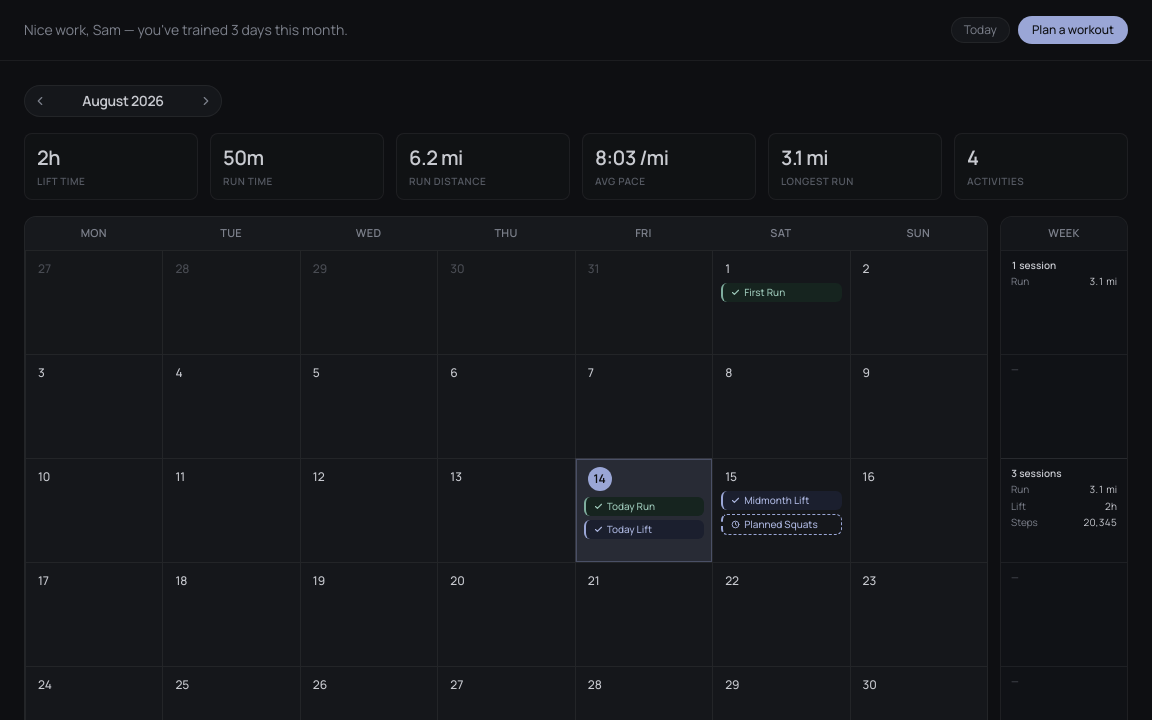
Scenario: CalendarPage › opens the read-only planned modal when a planned grid pill is clicked
Click the button "Planned Squats" at point(781, 524), box [721,514,842,534]
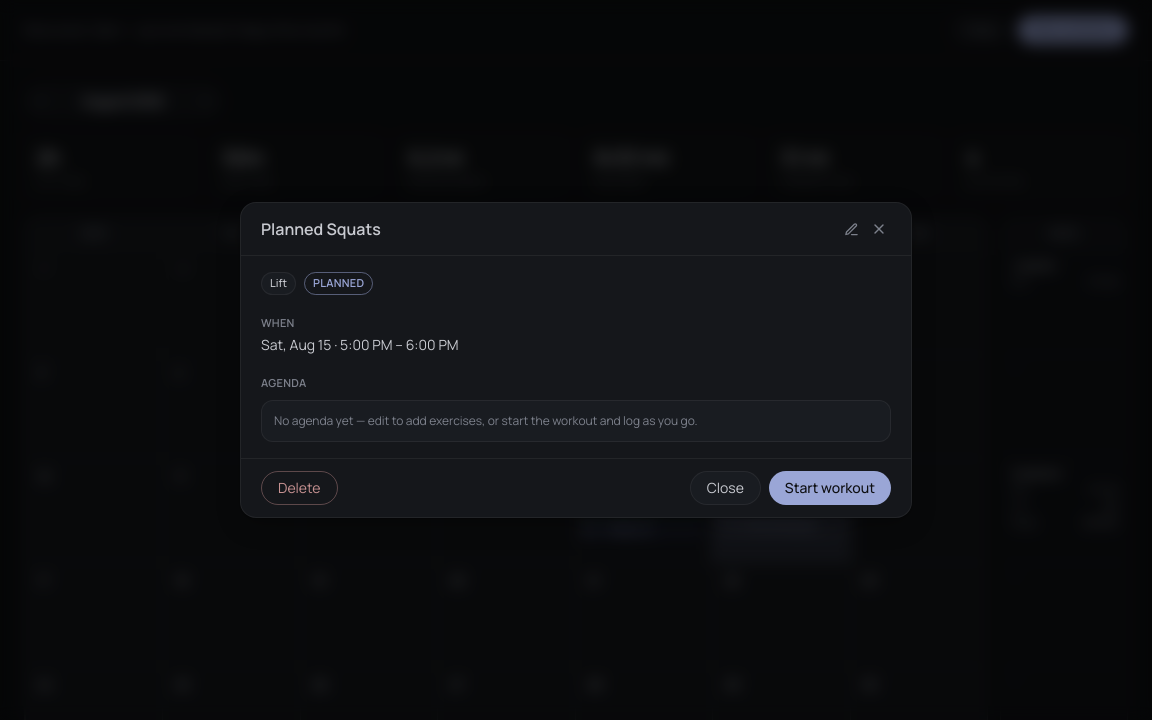
Check: the dialog is shown
Check: the button named "Edit planned workout" is shown, box [840,218,863,241]
